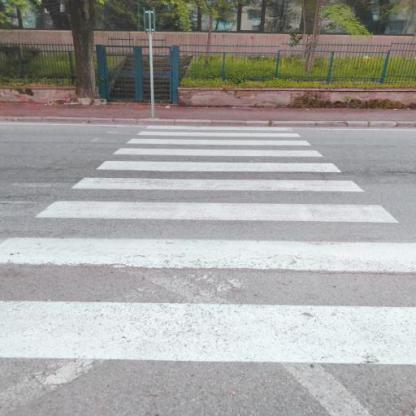crosswalk: (0, 196, 416, 280), (92, 148, 348, 176)
